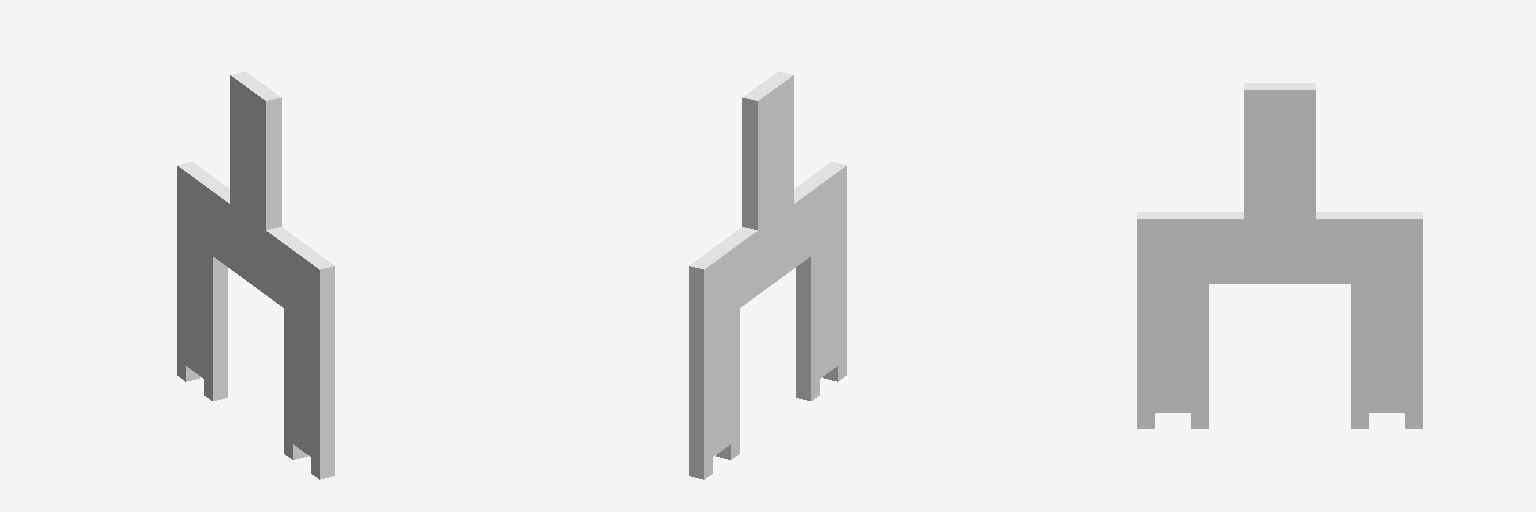
File: 31-Palanca-0.obj
3 renders of one model, left to right at view 1: azimuth 30°, elevation 25°; view 2: azimuth 150°, elevation 25°; view 3: azimuth 270°, elevation 25°, orthographic.
Parts seen in each view (by area): view 1: object 1; view 2: object 1; view 3: object 1.
Part boxes in pixels (x1,y1,x2,y2): object 1: (177,71,334,479); object 1: (689,71,846,479); object 1: (1137,83,1422,428).
Size of the model in its own units: 0.1 by 2.1 by 1.6.